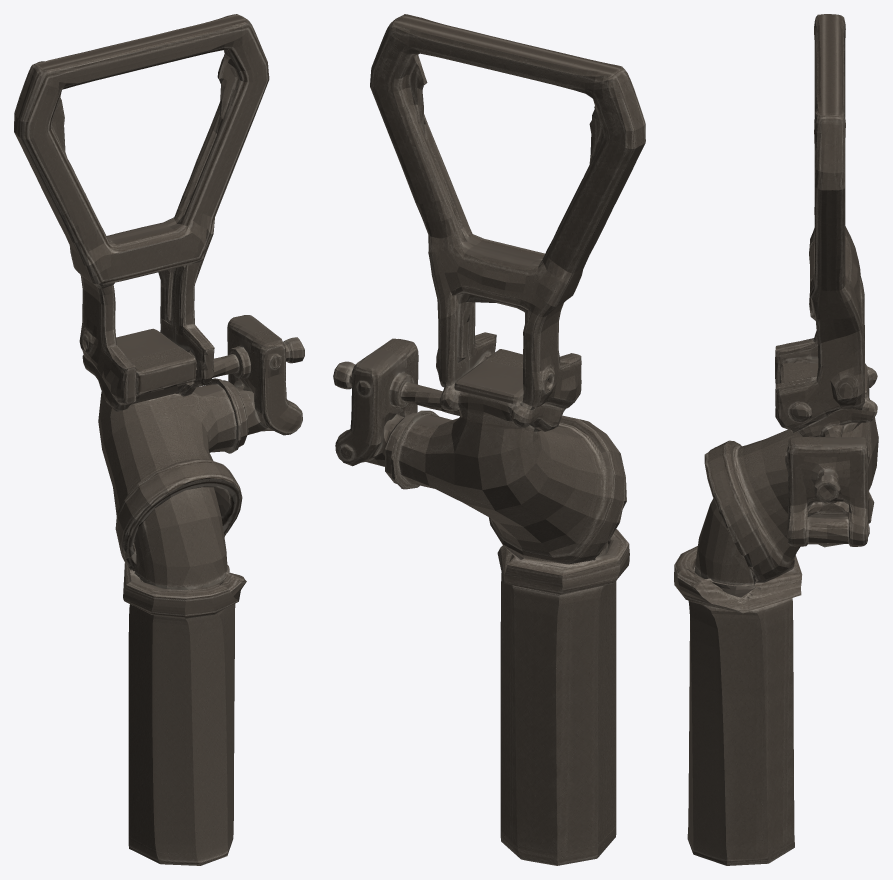
Rendered from D_Capsulas2.fbx.
3 renders of one model, left to right at view 1: azimuth 30°, elevation 25°; view 2: azimuth 150°, elevation 25°; view 3: azimuth 270°, elevation 25°, orthographic. The views are drawn at different scales.
Visible parts, largest first — view 1: temp; view 2: temp; view 3: temp.
Boxes of the visible parts, box(x1,y1,x2,y2) form: temp: box(14, 14, 304, 865); temp: box(333, 14, 645, 865); temp: box(674, 14, 878, 865).
Size of the model in its own units: 72.82 by 190 by 45.06.
Materials: 1 (1 with a texture image).
